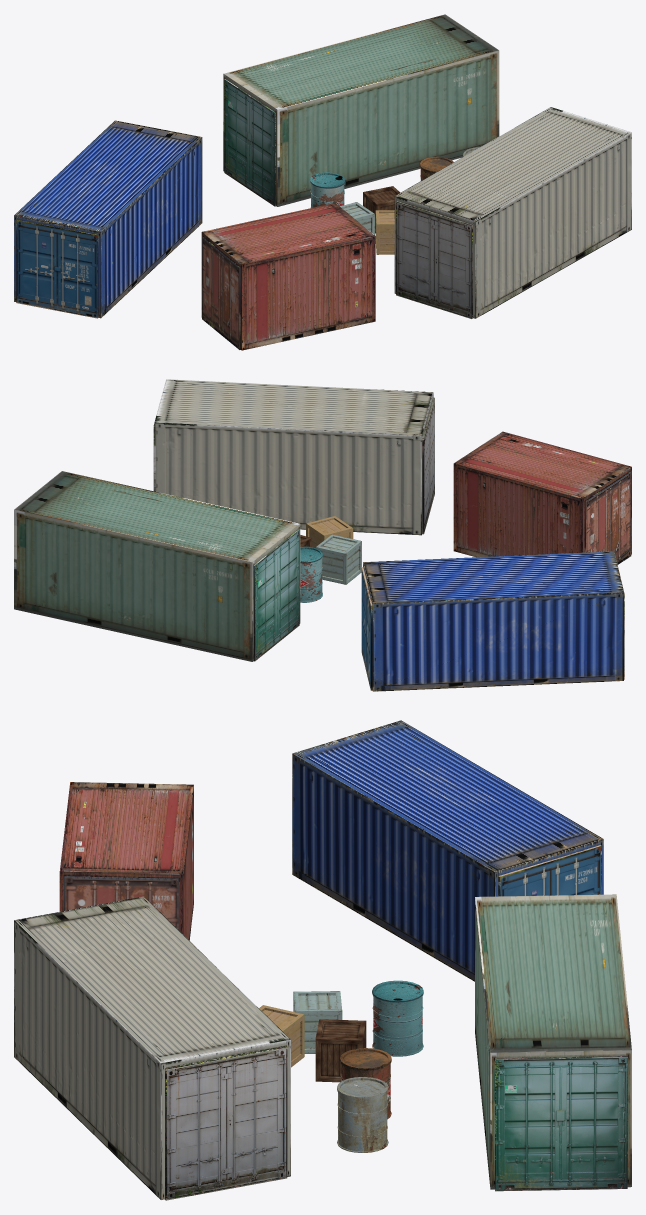
The picture shows the model from 3 angles, top to bottom: view 1: azimuth 30°, elevation 25°; view 2: azimuth 150°, elevation 25°; view 3: azimuth 270°, elevation 25°; orthographic projection. The views are drawn at different scales.
Visible parts, largest first — view 1: Box049, Box027, Box003, Box055, Box028, Box006, Box050, Box056, drum_oil, Box076, Box079, Box062 (+1 smaller); view 2: Box049, Box027, Box003, Box055, Box050, Box056, Box062, Box028, drum_oil, Box006, Box076; view 3: Box027, Box003, Box049, Box050, Box028, Box055, Box006, drum_oil002, drum_oil, Box056, Box079, Box062 (+2 smaller).
Part boxes in pixels (bbox=[...]): Box049: bbox=[223, 14, 499, 206]; Box027: bbox=[394, 107, 631, 318]; Box003: bbox=[14, 120, 202, 318]; Box055: bbox=[201, 203, 375, 350]; Box028: bbox=[396, 201, 472, 318]; Box006: bbox=[16, 219, 98, 318]; Box050: bbox=[224, 79, 275, 206]; Box056: bbox=[202, 236, 240, 349]; drum_oil: bbox=[310, 172, 345, 207]; Box076: bbox=[375, 210, 394, 254]; Box079: bbox=[363, 186, 400, 233]; Box062: bbox=[340, 202, 374, 234]; Box049: bbox=[14, 471, 300, 661]; Box027: bbox=[154, 379, 433, 535]; Box003: bbox=[363, 551, 623, 691]; Box055: bbox=[453, 431, 631, 557]; Box050: bbox=[254, 529, 299, 661]; Box056: bbox=[584, 471, 631, 564]; Box062: bbox=[315, 534, 361, 584]; Box028: bbox=[153, 397, 434, 534]; drum_oil: bbox=[300, 546, 322, 602]; Box006: bbox=[361, 557, 624, 690]; Box076: bbox=[306, 516, 353, 547]; Box027: bbox=[14, 896, 290, 1199]; Box003: bbox=[292, 720, 603, 981]; Box049: bbox=[475, 894, 631, 1189]; Box050: bbox=[495, 1056, 627, 1191]; Box028: bbox=[165, 1046, 287, 1200]; Box055: bbox=[59, 782, 193, 940]; Box006: bbox=[498, 845, 601, 896]; drum_oil002: bbox=[337, 1077, 388, 1152]; drum_oil: bbox=[372, 980, 423, 1056]; Box056: bbox=[63, 876, 179, 930]; Box079: bbox=[315, 1019, 366, 1082]; Box062: bbox=[293, 991, 342, 1053].
Bounding box in the file's own units: 652 × 120 × 466.
